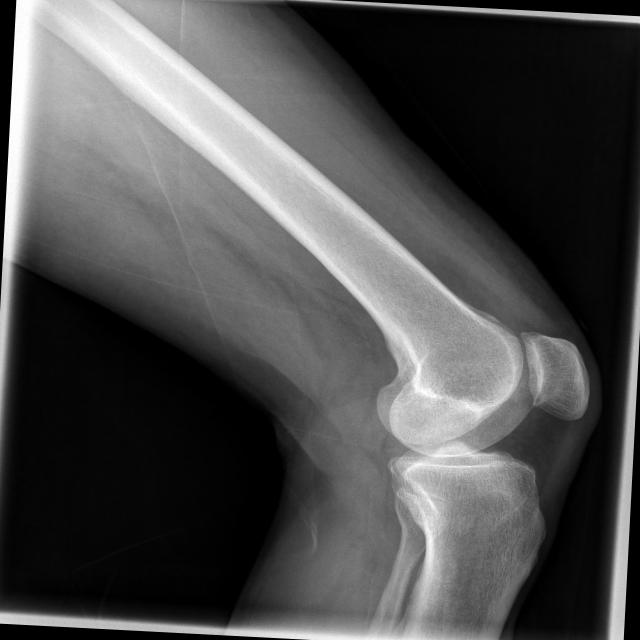Knee: (365, 321, 595, 527)
